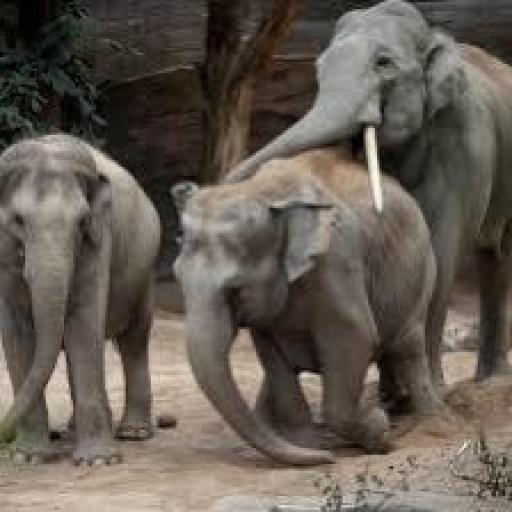Elephant: (9, 9, 512, 506)
